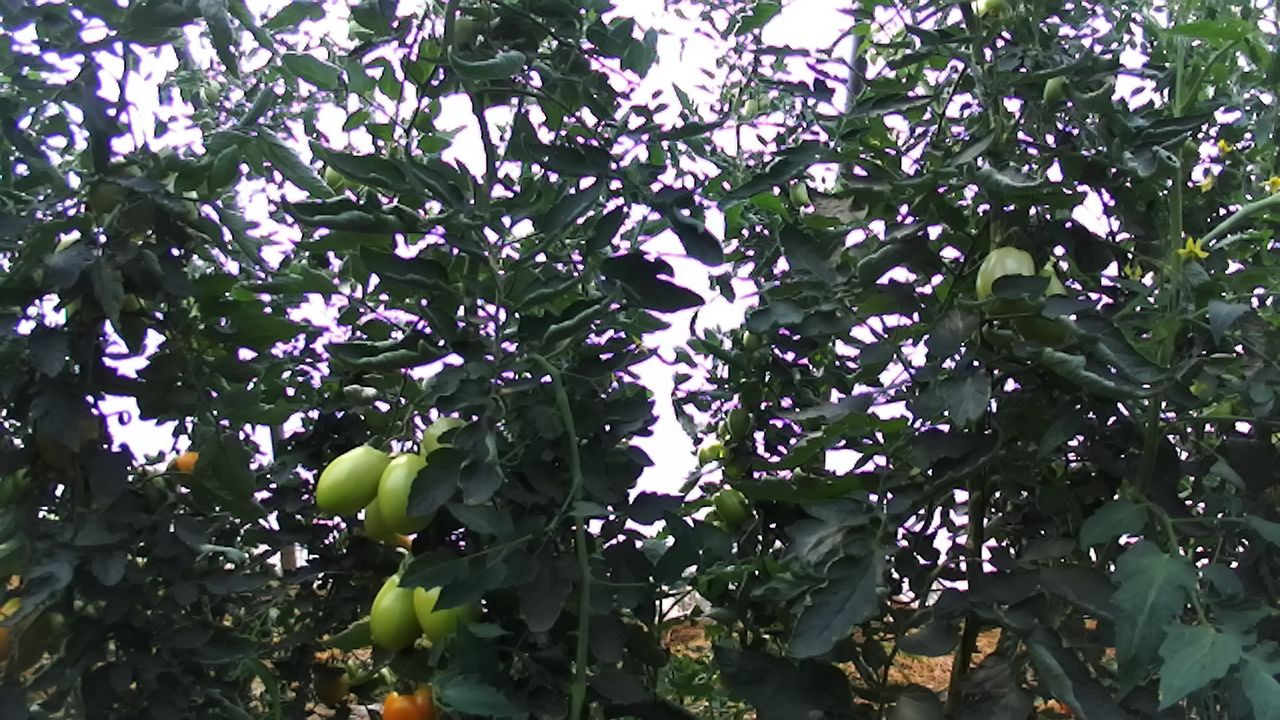tomato: (370, 446, 442, 542), (312, 441, 396, 519), (363, 569, 429, 658), (971, 240, 1042, 319), (706, 481, 754, 528), (724, 406, 753, 442)
